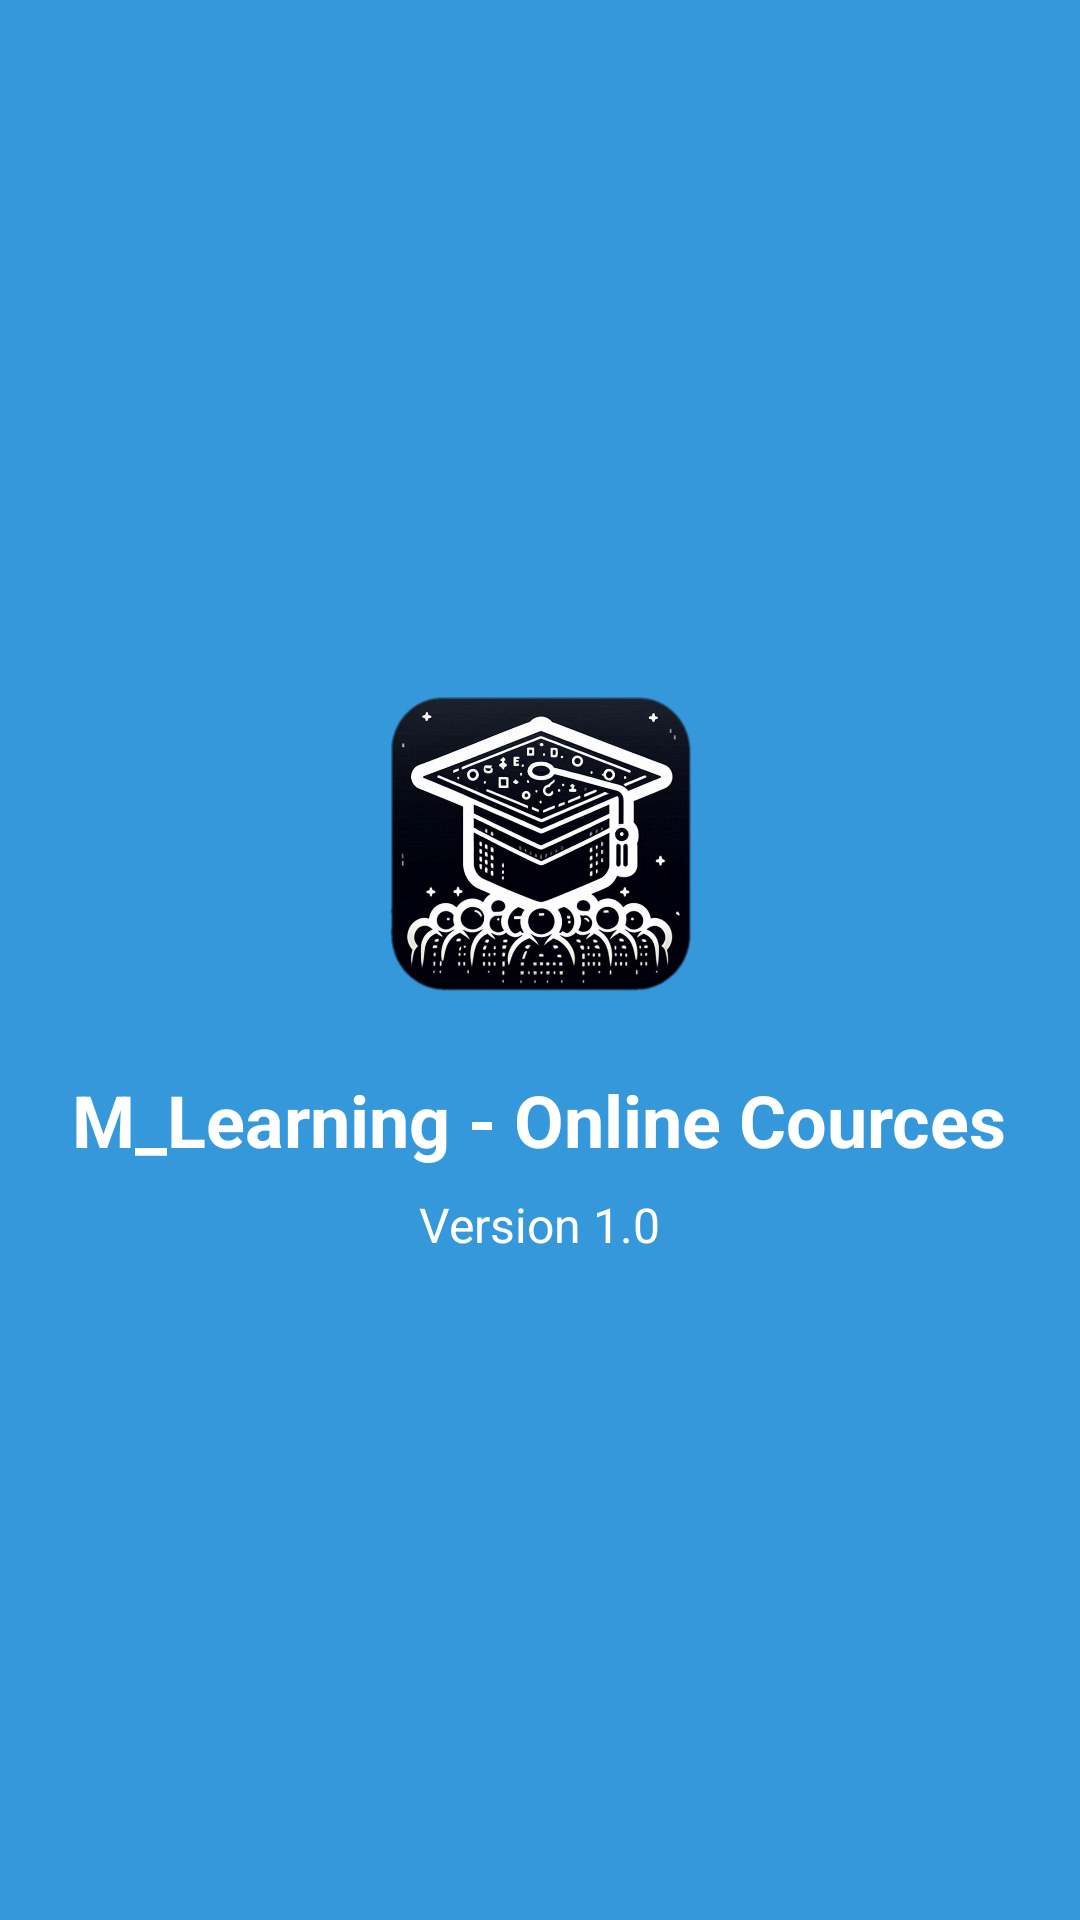

Screen size 1080px x 1920px. Icon name, then its center in pixels as (x,y):
app: (540,844)
